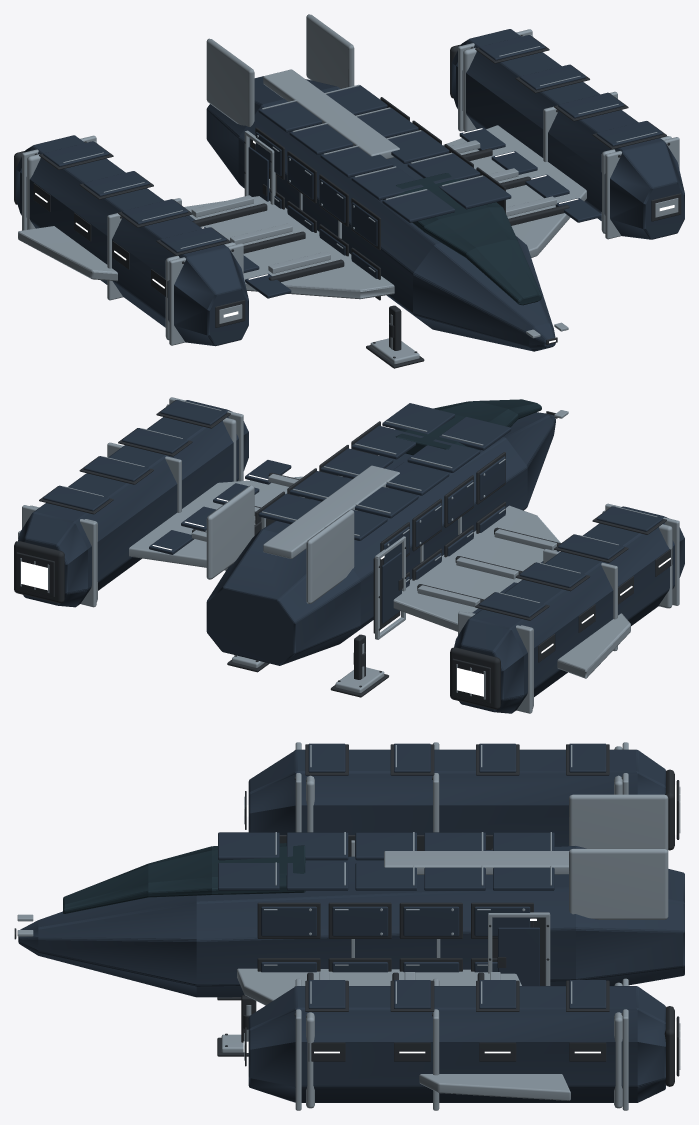
Rendered from SM_Aurelion_Reformation_Shuttle.fbx.
The picture shows the model from 3 angles, top to bottom: view 1: azimuth 30°, elevation 25°; view 2: azimuth 150°, elevation 25°; view 3: azimuth 270°, elevation 25°; orthographic projection. The views are drawn at different scales.
Parts seen in each view (by area): view 1: SM_Aurelion_Reformation_Shuttle; view 2: SM_Aurelion_Reformation_Shuttle; view 3: SM_Aurelion_Reformation_Shuttle.
Part boxes in pixels (x1=…): SM_Aurelion_Reformation_Shuttle: x1=14, y1=14, x2=684, y2=368; SM_Aurelion_Reformation_Shuttle: x1=14, y1=397, x2=684, y2=713; SM_Aurelion_Reformation_Shuttle: x1=14, y1=742, x2=684, y2=1110.
Bounding box in the file's own units: 1539 × 1415 × 462.
